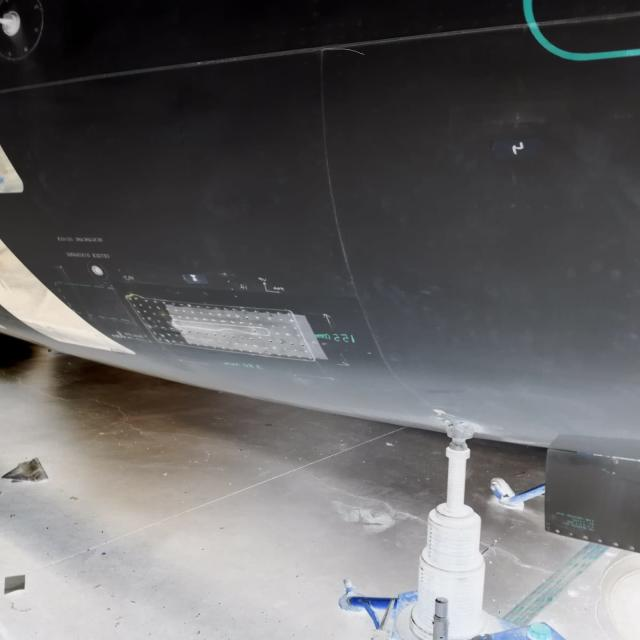Rupture: (318, 44, 368, 59)
